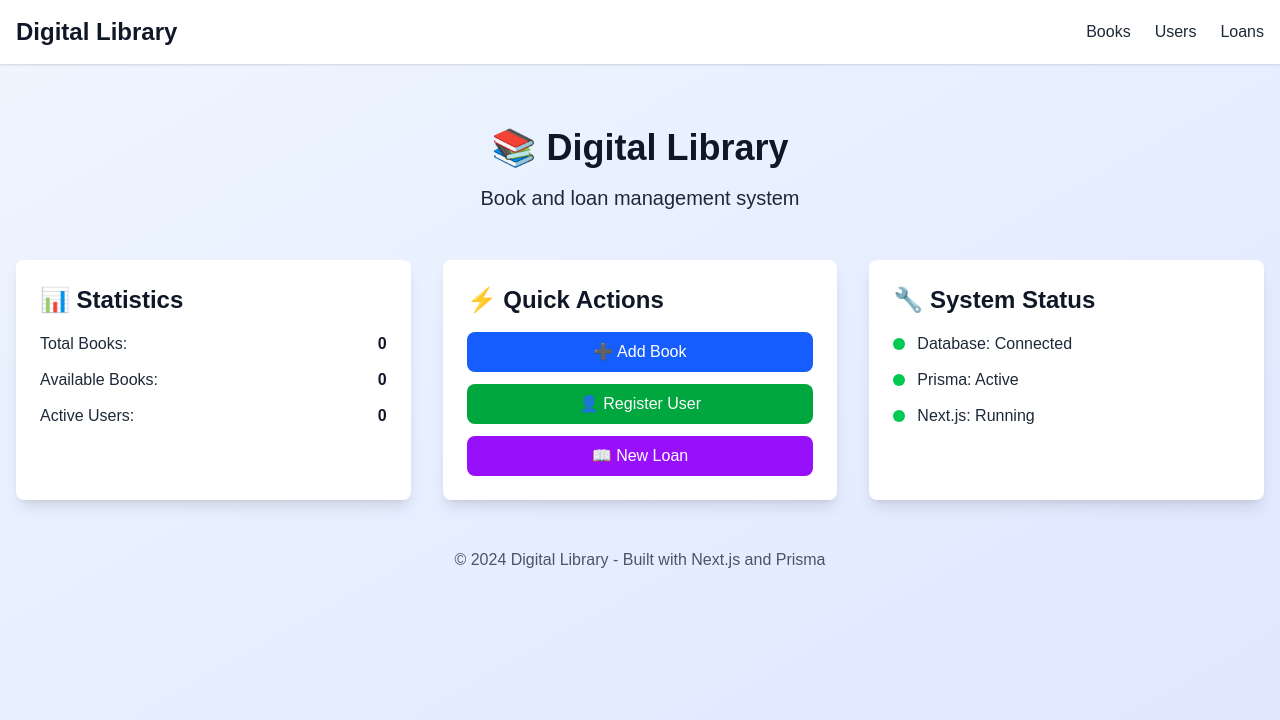
it: Dashboard › should navigate to books page
Step 1. Click the link to "/books" → (1109, 32), box [1086,23,1131,40]
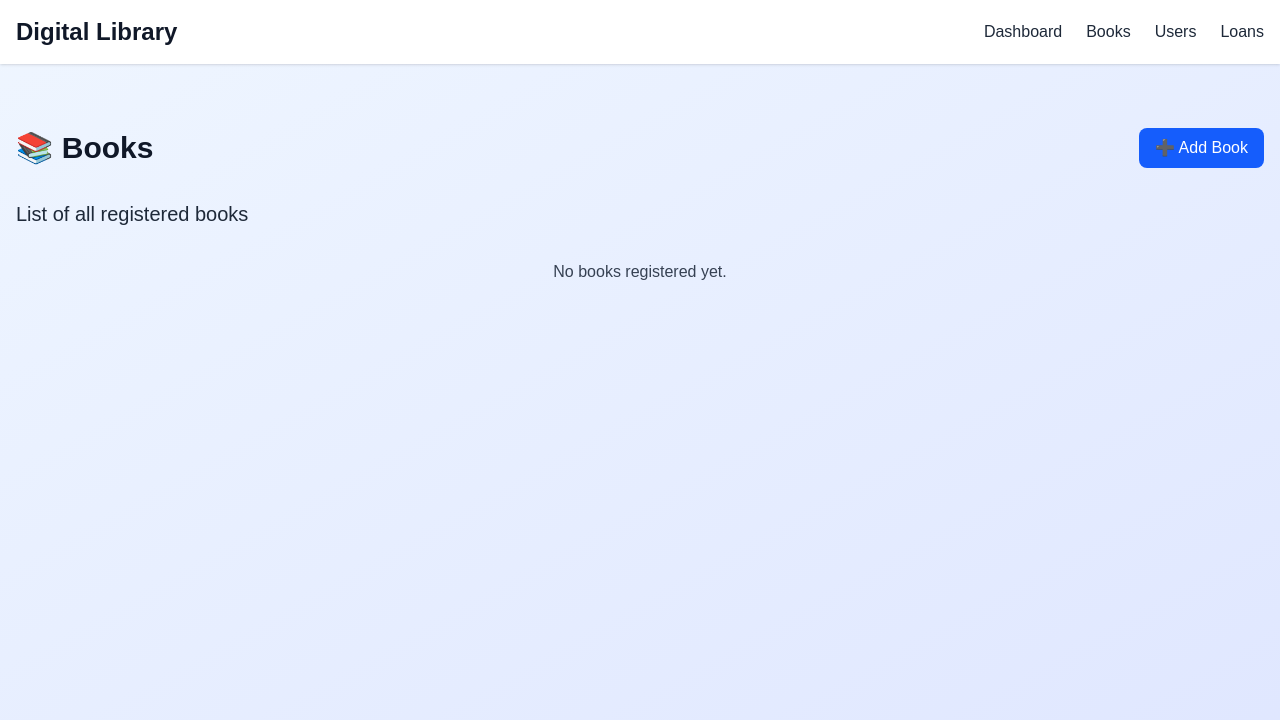
Expected: the header shows "Books", [16,131,153,164]
